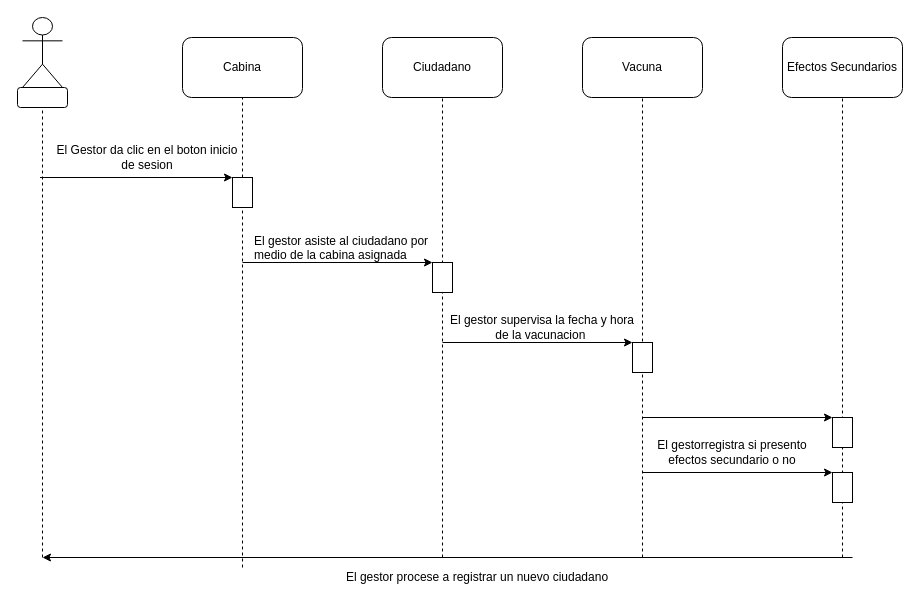
Some shapes in this 920 by 605 pixel diagram are drawn without their labels. Here are the shapes that lost their labels. From the top down, the centre of each, then its label:
At [42,52]: "Actor".
At [42,97]: "Gestor".
